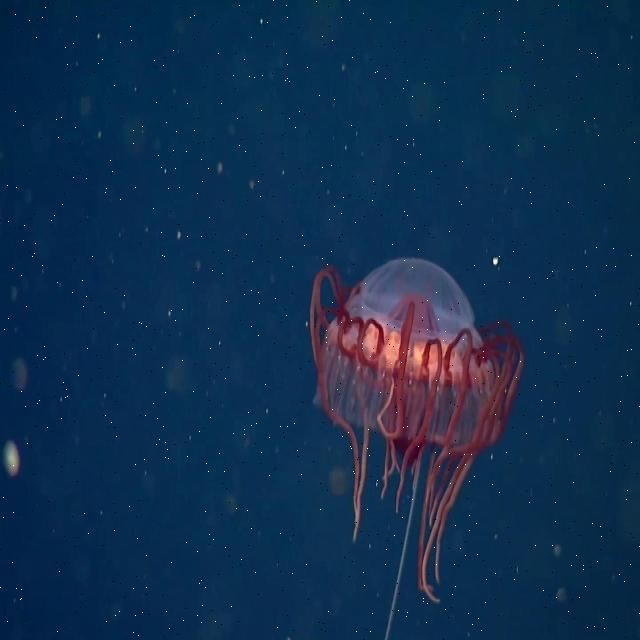reefs: (307, 257, 525, 639)
